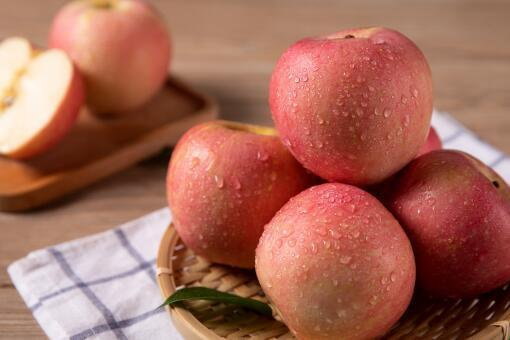apple: (250, 182, 414, 338), (268, 27, 434, 179), (165, 120, 313, 270), (380, 148, 510, 292), (52, 2, 173, 114), (1, 37, 87, 161)
